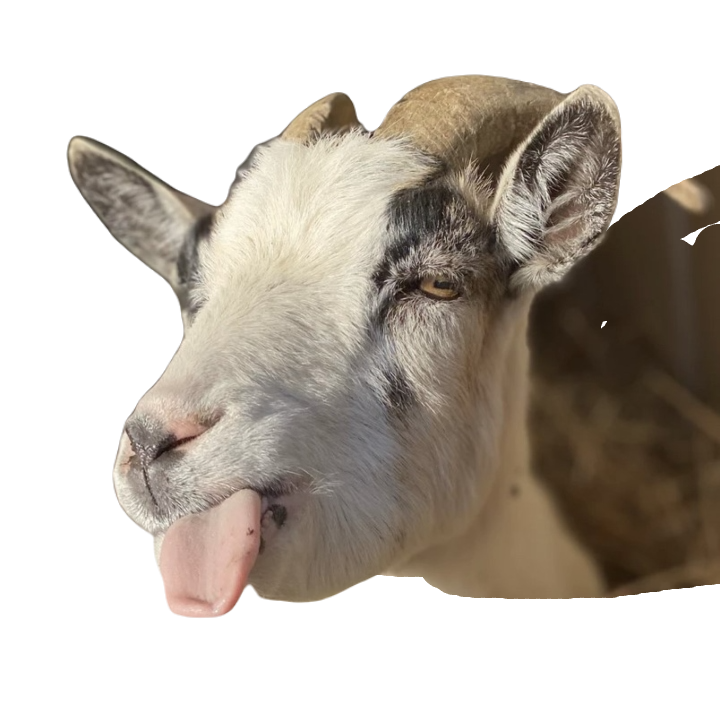Goat: (62, 75, 719, 618)
